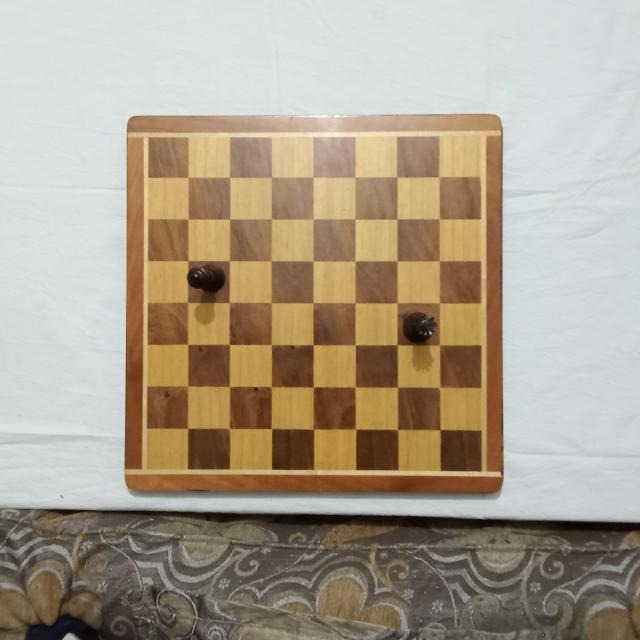black-king: (188, 265, 228, 295)
black-queen: (402, 312, 437, 343)
